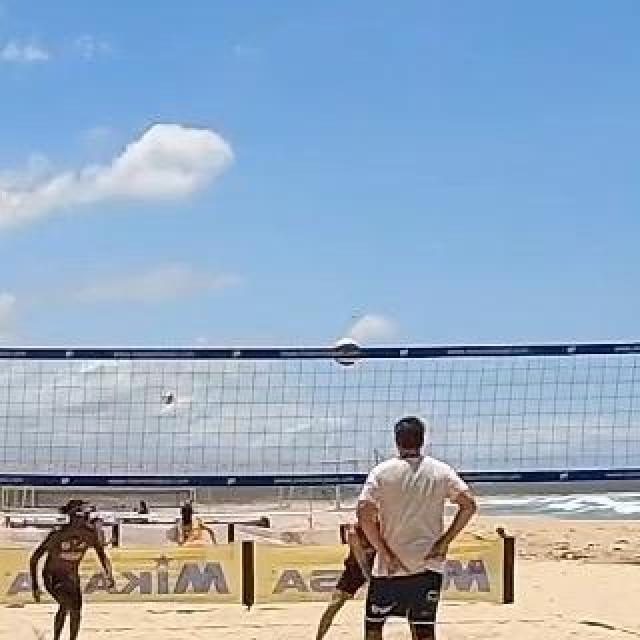volleyball: (334, 338, 362, 366)
